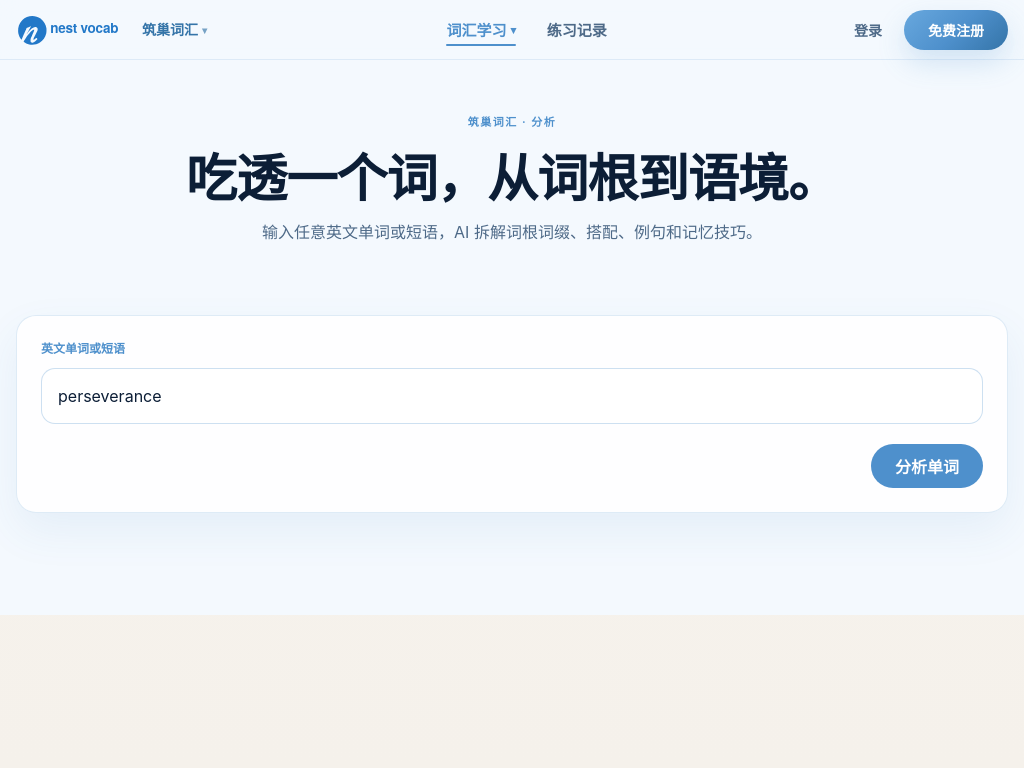
Test: VocabAnalyzerPage › shows an error message when analysis fails
The width and height of the screenshot is (1024, 768).
What coordinates should you click on to do the following:
click the button "分析单词"
I would click on:
 (927, 466)
Its box is [871,444,983,488].
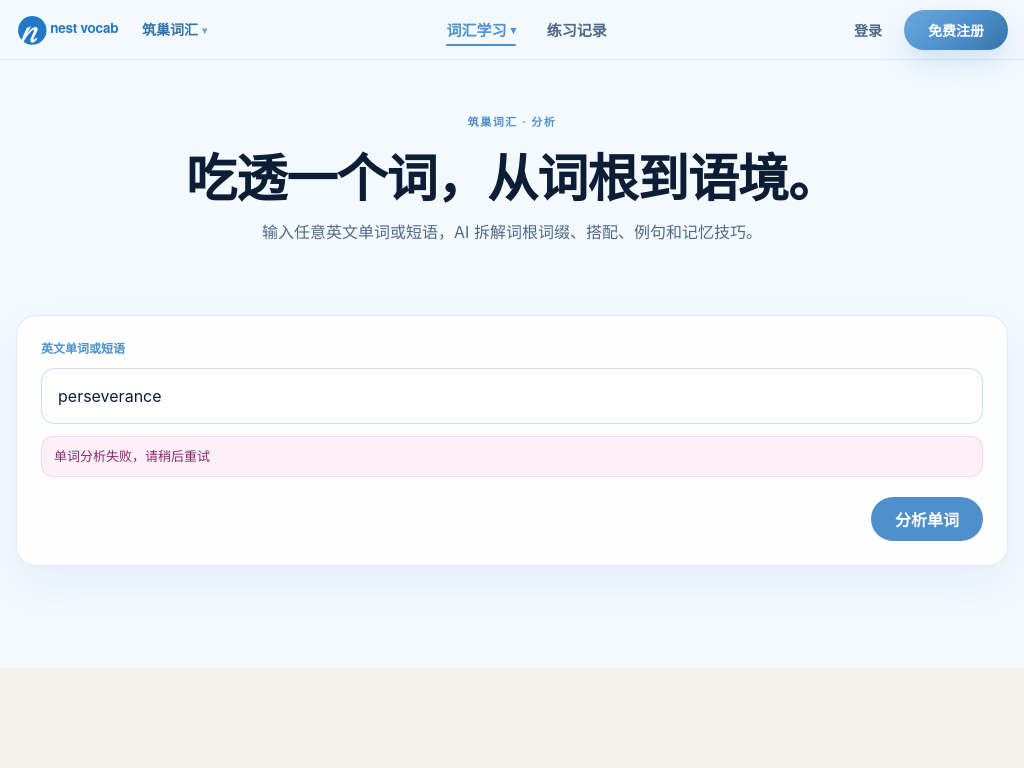
Check: the message reads "单词分析失败，请稍后重试", box [54,448,210,464]
